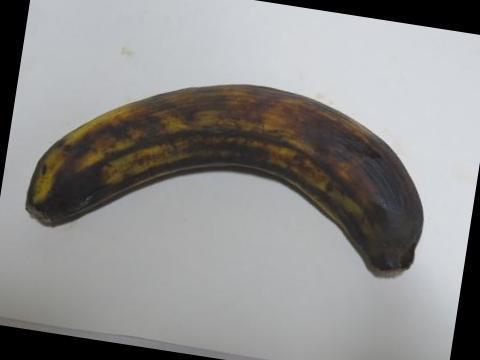overripe: (20, 77, 425, 281)
